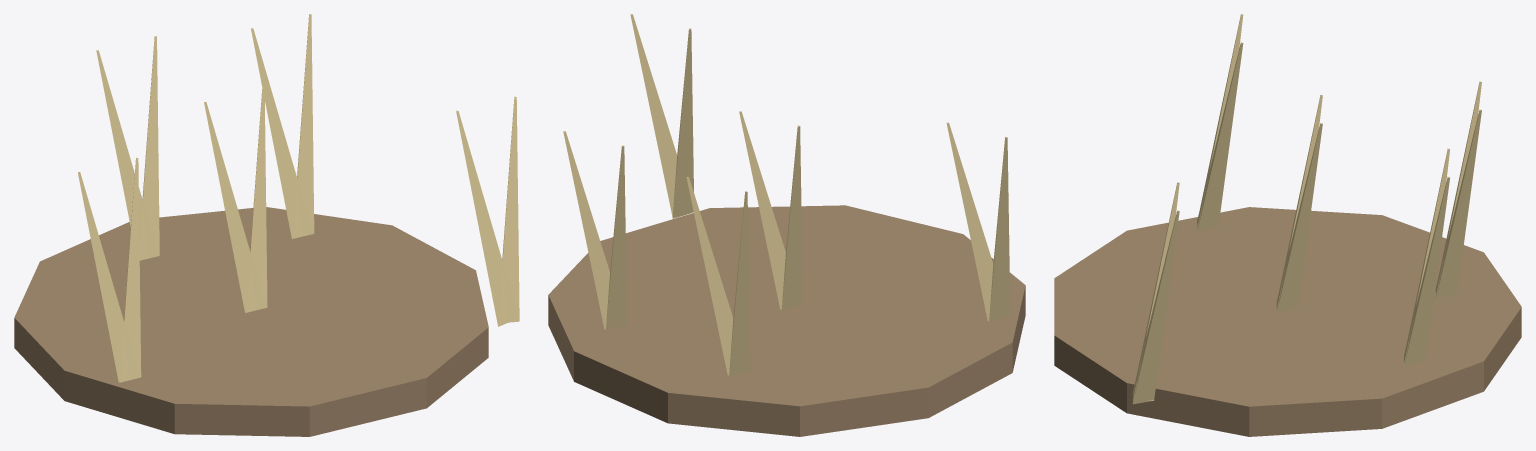
Rendered from fixture_harvest.glb.
3 views of the same model, side by side, from view 1: azimuth 30°, elevation 25°; view 2: azimuth 150°, elevation 25°; view 3: azimuth 270°, elevation 25° (orthographic).
Parts seen in each view (by area): view 1: Action setting; view 2: Action setting; view 3: Action setting.
Boxes of the visible parts, x1,y1,x2,y2 form: Action setting: (14, 14, 519, 436); Action setting: (548, 14, 1025, 436); Action setting: (1054, 14, 1521, 436).
Bounding box in the file's own units: 0.3003 × 0.1582 × 0.2939.
